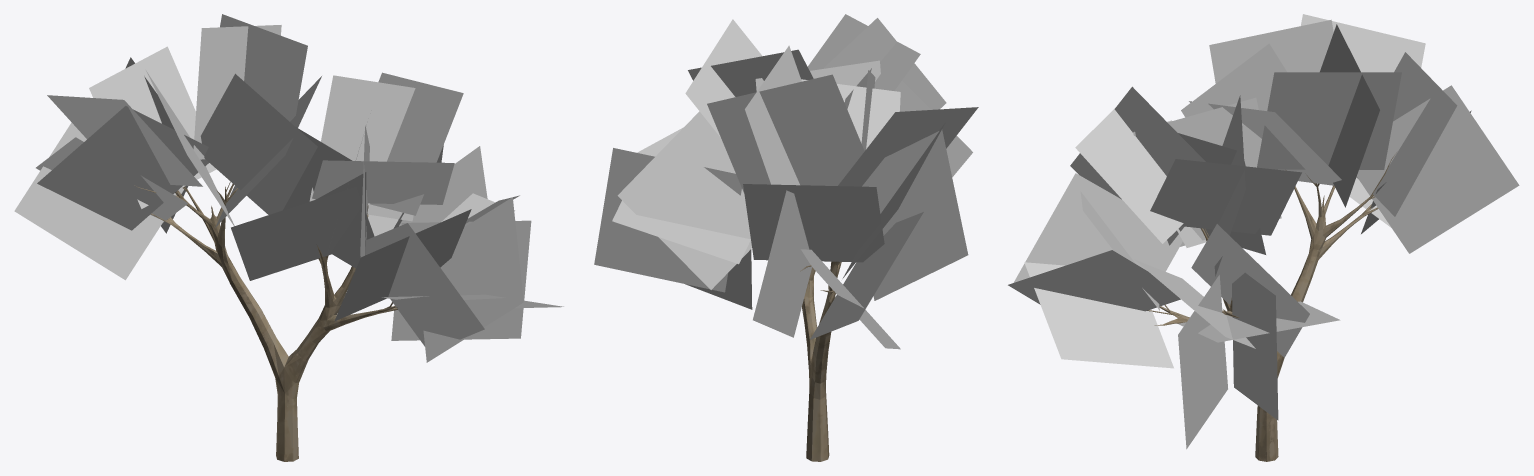
File: tree110.obj
The picture shows the model from 3 angles, left to right: view 1: azimuth 30°, elevation 25°; view 2: azimuth 150°, elevation 25°; view 3: azimuth 270°, elevation 25°; orthographic projection. The views are drawn at different scales.
Parts seen in each view (by area): view 1: _1_1, _0_0; view 2: _1_1, _0_0; view 3: _1_1, _0_0.
Boxes of the visible parts, <box> form: _1_1: <box>14,14,563,362</box>; _0_0: <box>134,181,397,461</box>; _1_1: <box>594,14,978,349</box>; _0_0: <box>800,261,841,461</box>; _1_1: <box>1008,14,1519,449</box>; _0_0: <box>1147,152,1396,461</box>.
Bounding box in the file's own units: 249 × 239 × 271.
